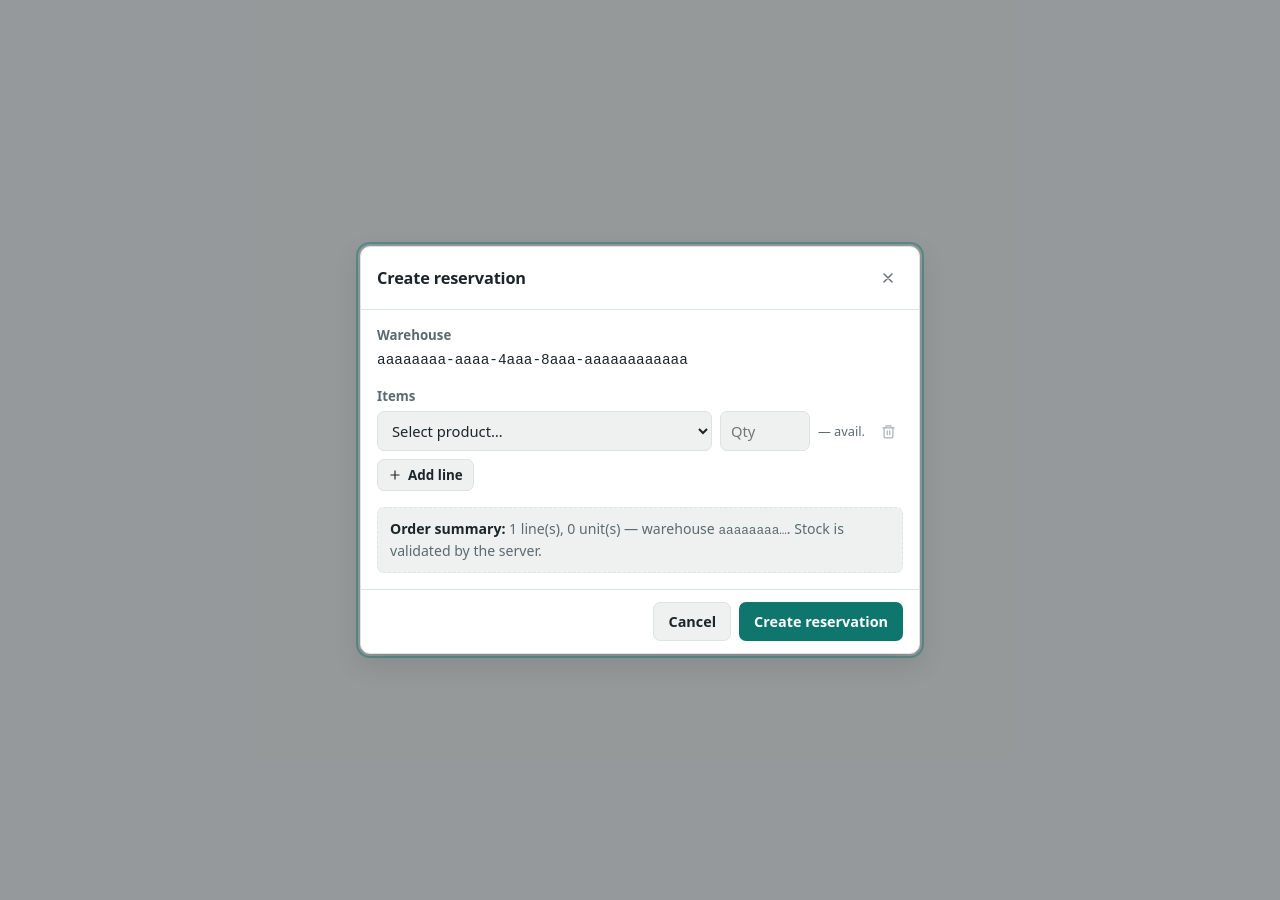
Test: CreateReservationModal › creates the reservation with one idempotency key and shows the result
The width and height of the screenshot is (1280, 900).
Select "bbbbbbbb…" in the dropdown named "Product for line" at (544, 431), box [377,411,712,451]
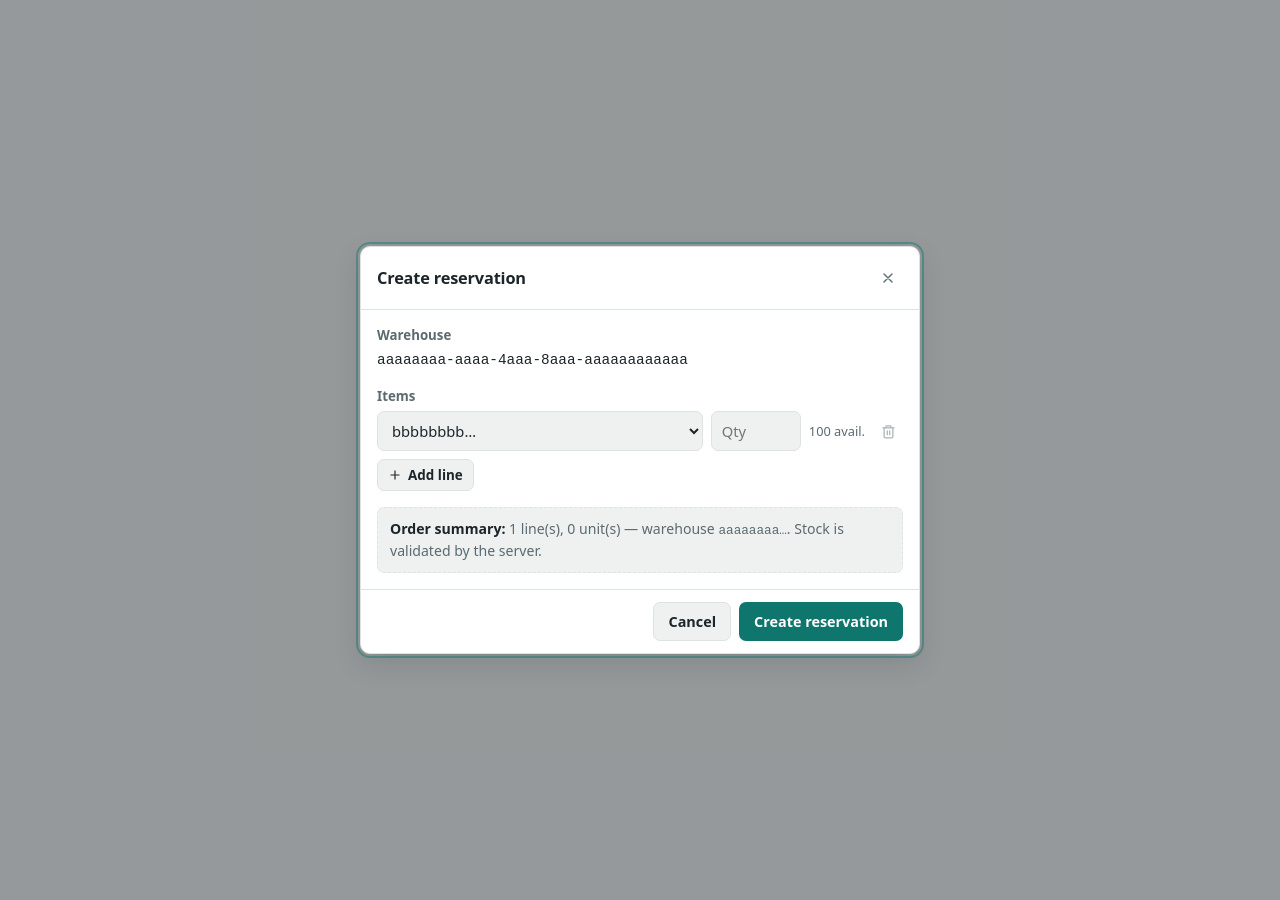
Type "3" into the field named "Quantity for line" at (756, 431), box [711,411,801,451]
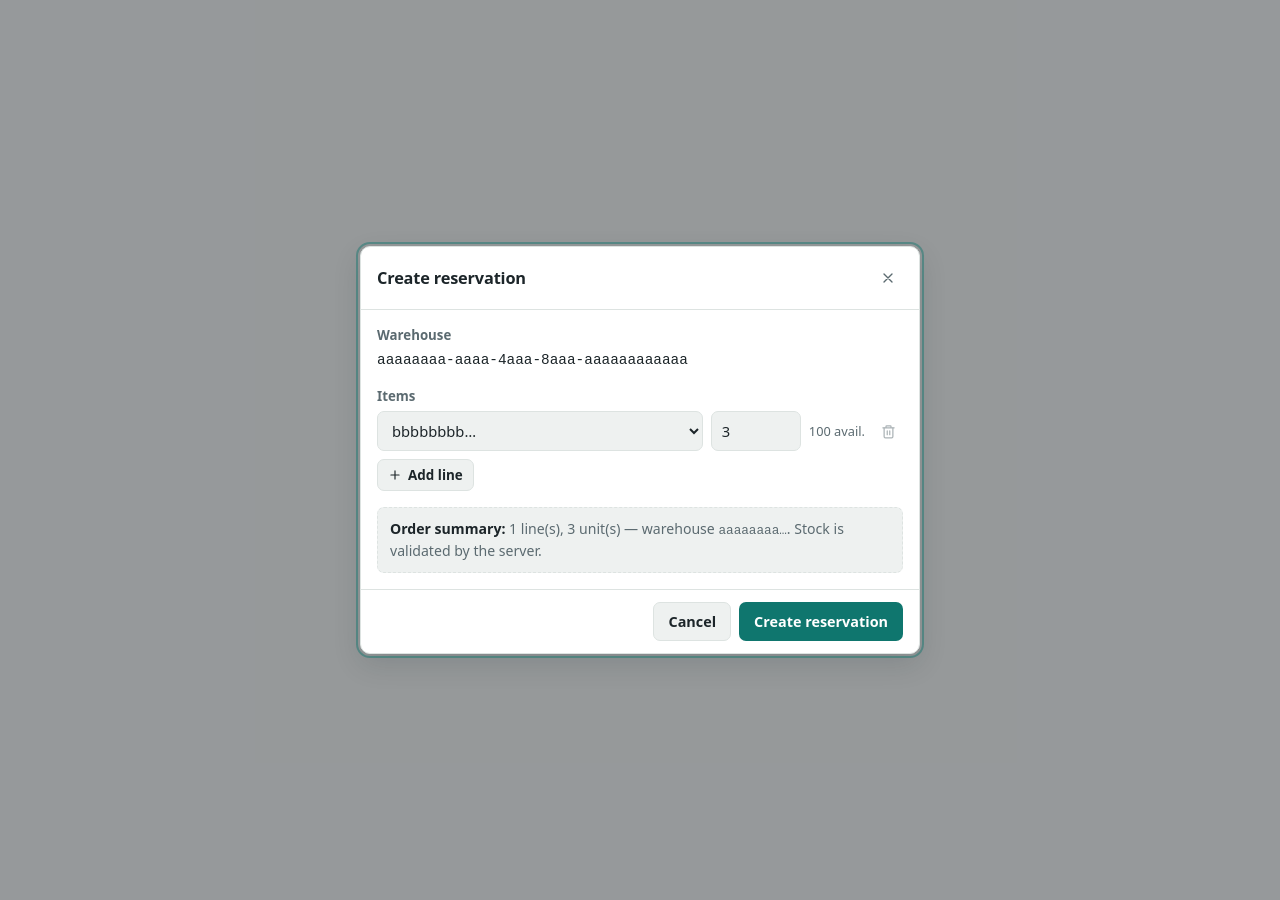
Submit the form with id "create-reservation-form", box [377,326,903,573]
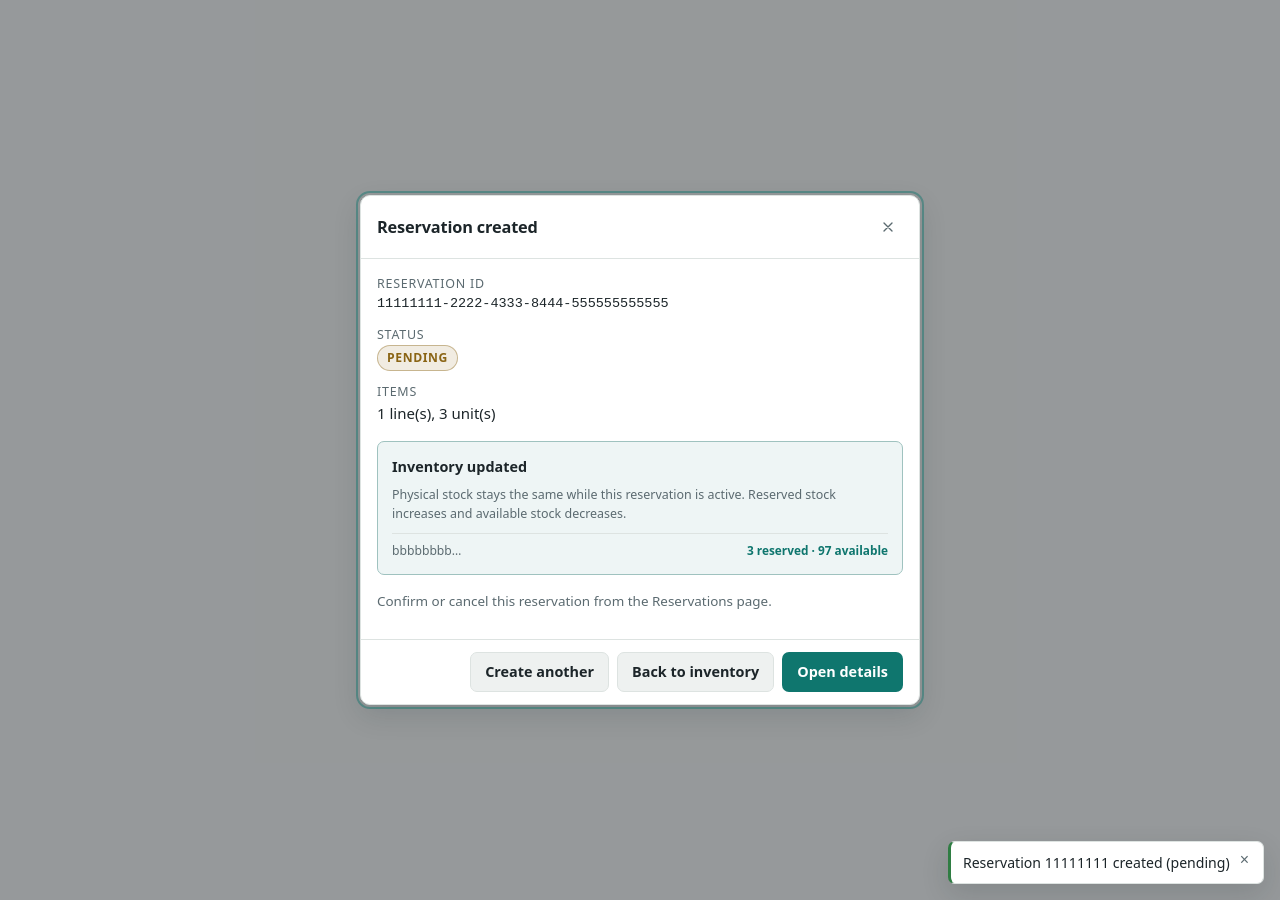
Now the heading "Reservation created" is shown, box [377,215,538,240]
Now the text "11111111-2222-4333-8444-555555555555" is shown, box [377,296,669,311]
Now the text "3 reserved · 97 available" is shown, box [747,542,888,559]
